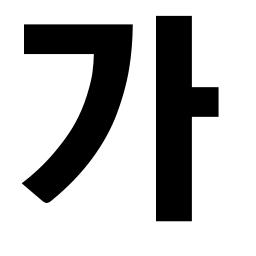Gaji: (139, 72, 209, 138)
